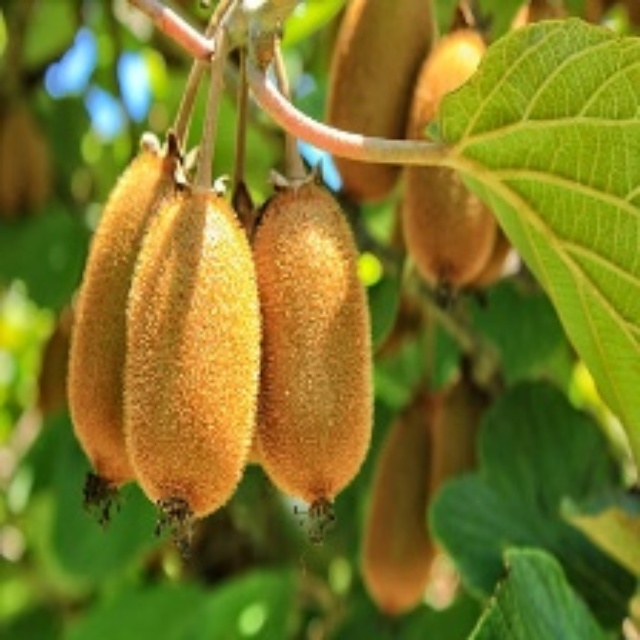kiwi: (67, 133, 260, 565), (242, 174, 378, 522), (396, 37, 505, 305), (325, 2, 434, 205)
